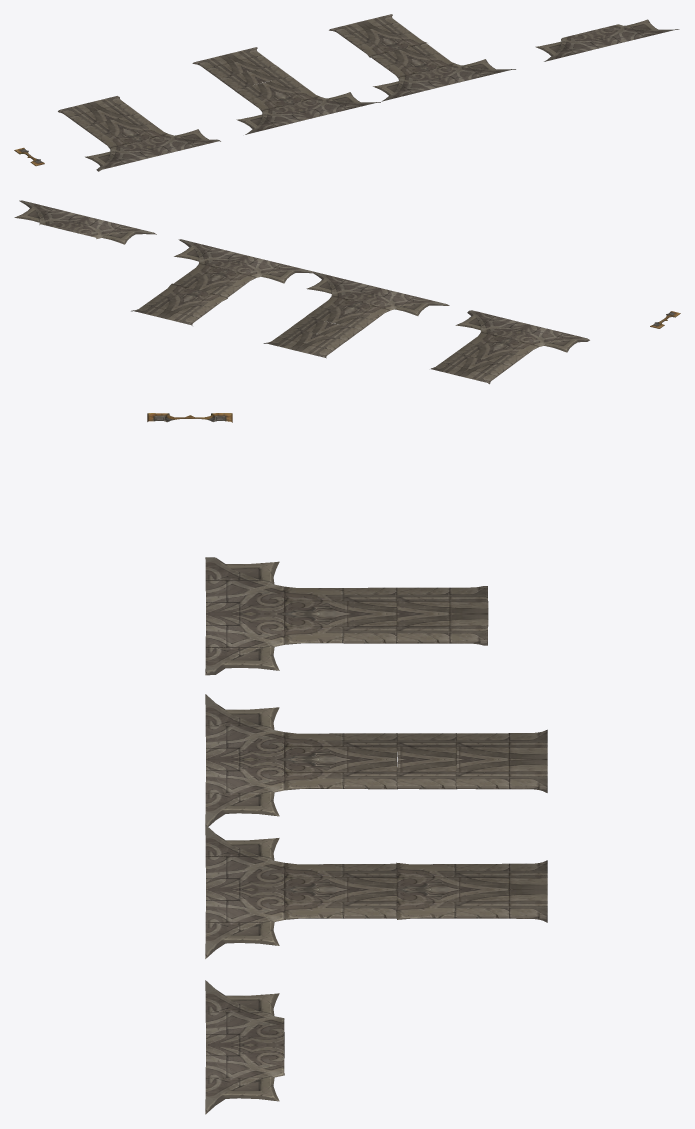
Rendered from f_1110_floor_a.FBX.
3 views of the same model, one above another, from view 1: azimuth 30°, elevation 25°; view 2: azimuth 150°, elevation 25°; view 3: azimuth 270°, elevation 25° (orthographic). The views are drawn at different scales.
Parts seen in each view (by area): view 1: Plane001, Plane002, Plane003, Plane004; view 2: Plane001, Plane002, Plane003, Plane004; view 3: Plane001, Plane002, Plane003, Plane004.
Boxes of the visible parts, x1,y1,x2,y2 form: Plane001: [192, 47, 380, 134]; Plane002: [329, 14, 515, 101]; Plane003: [58, 96, 220, 171]; Plane004: [535, 19, 679, 61]; Plane001: [263, 271, 449, 358]; Plane002: [131, 239, 313, 325]; Plane003: [431, 310, 589, 384]; Plane004: [14, 200, 156, 244]; Plane001: [205, 694, 547, 826]; Plane002: [205, 825, 547, 958]; Plane003: [205, 557, 488, 675]; Plane004: [205, 980, 284, 1114].
Bounding box in the file's own units: 10208 × 531 × 2733.
